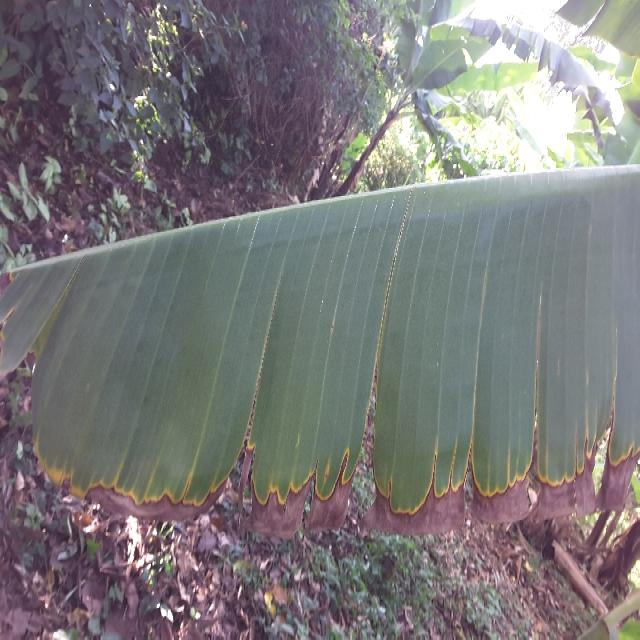Cordana: (24, 392, 640, 529), (0, 242, 57, 373)
